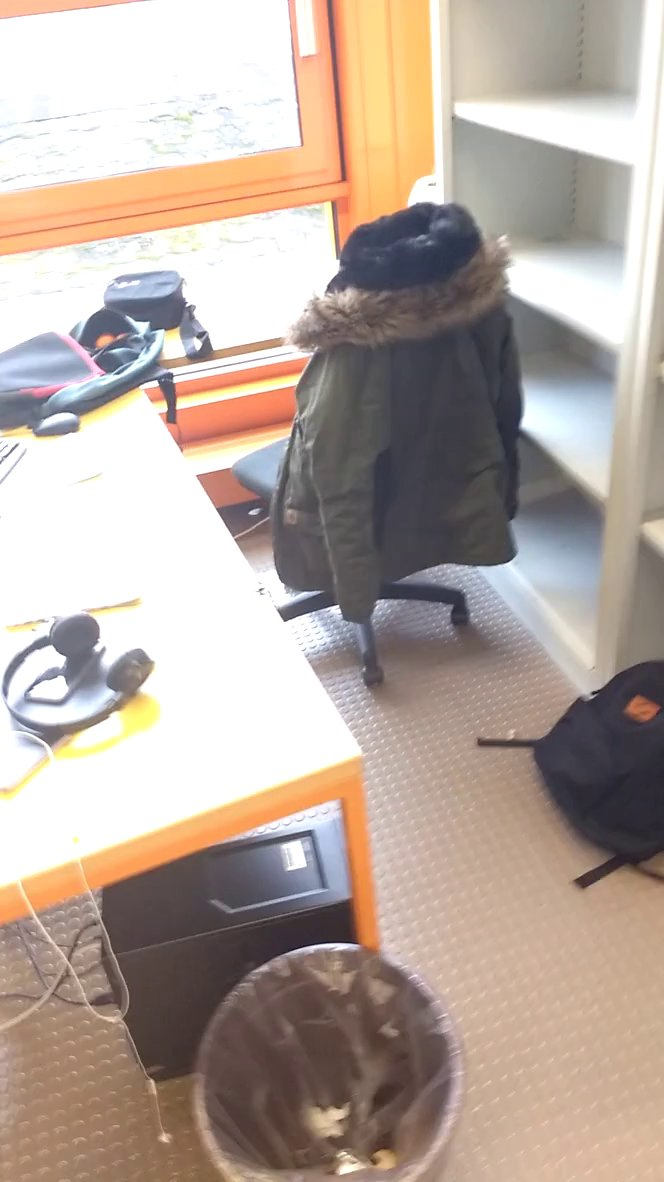bag: (523, 644, 664, 888)
bin: (173, 902, 488, 1182)
